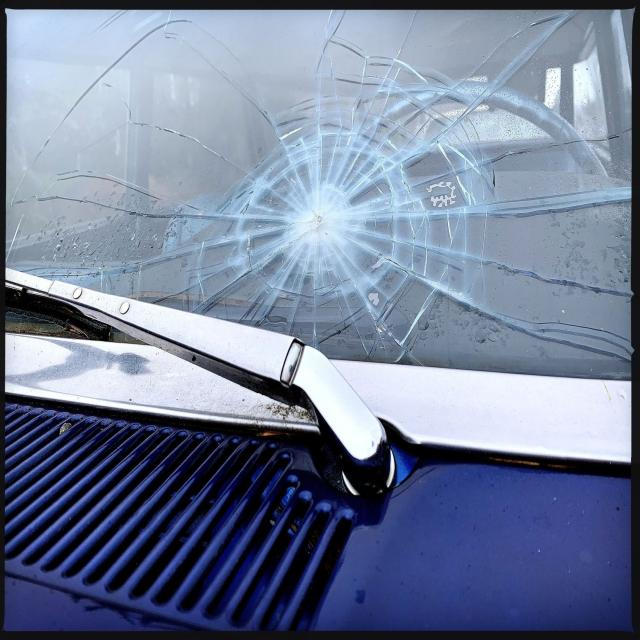crack: (0, 5, 640, 385)
